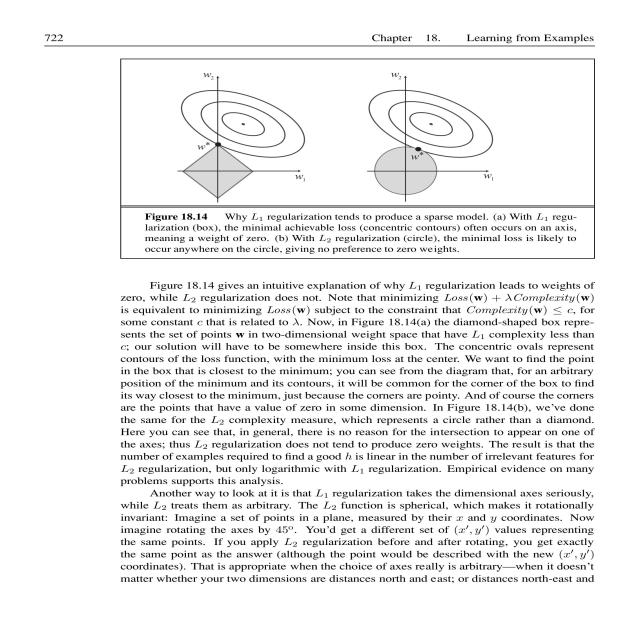diagram: (101, 50, 640, 260)
